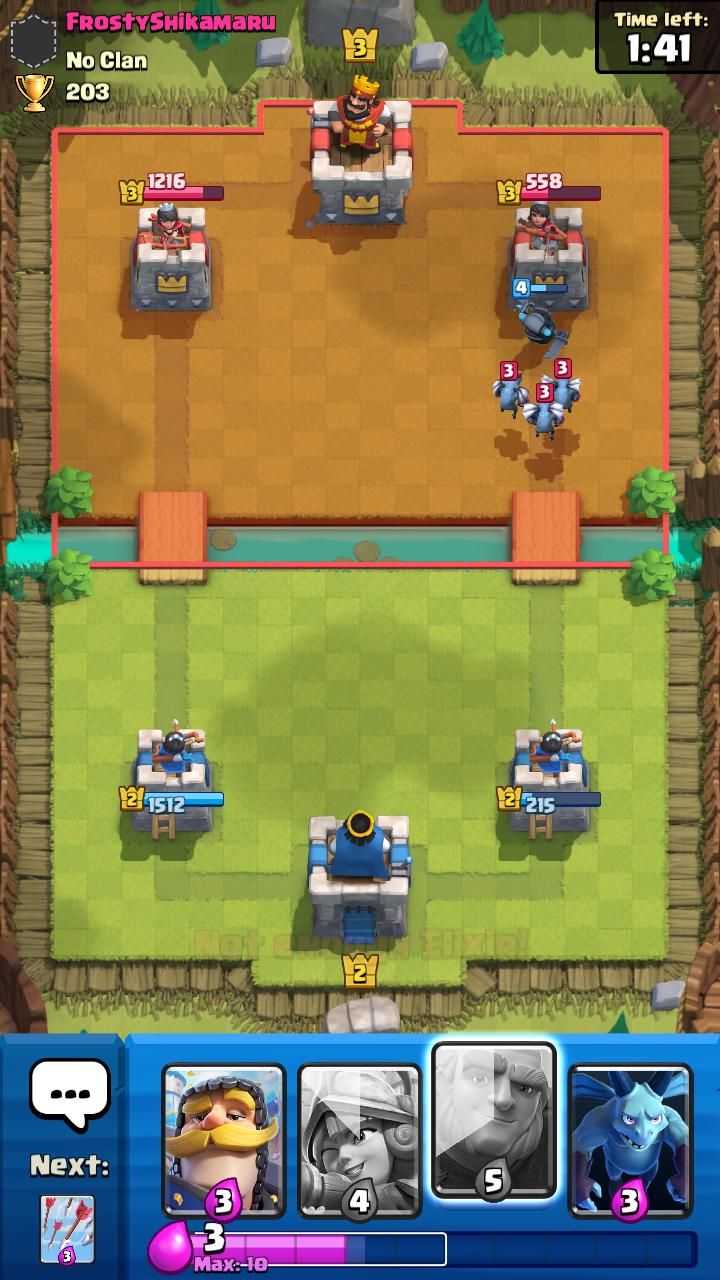ally: (512, 278, 570, 359)
enemy: (523, 383, 565, 441), (540, 358, 583, 413), (494, 361, 530, 419)
